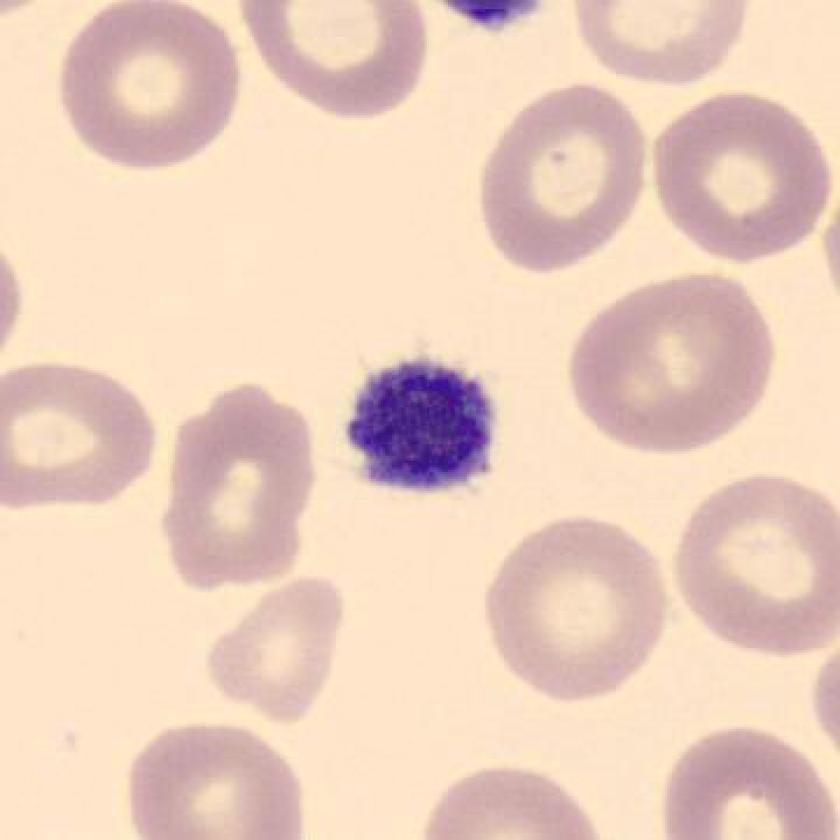platelets: (342, 348, 505, 510)
